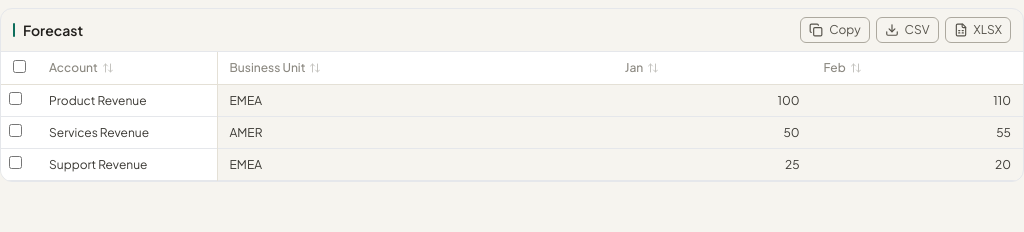
Test: DataTable › selection › selects and clears individual rows
Step 1. Click the checkbox named "Select r1" → (16, 98), box [9,92,22,105]
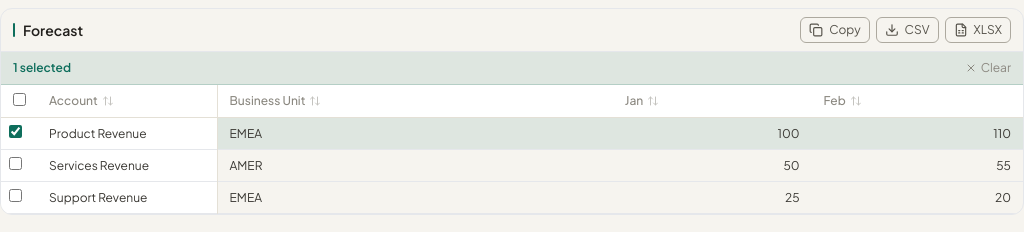
Now the text "1 selected" is shown, box [13,60,71,76]
Step 2. Click the button "Clear" → (988, 68), box [965,60,1011,76]
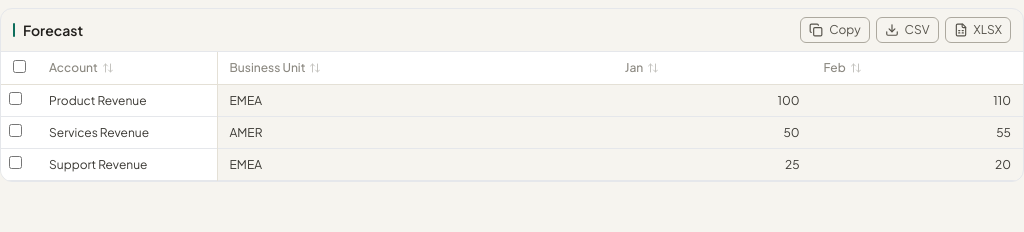
Now the text "1 selected" is gone
